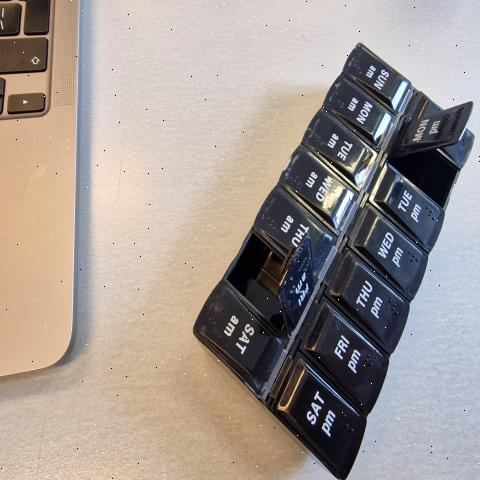Open: (389, 148, 459, 211)
